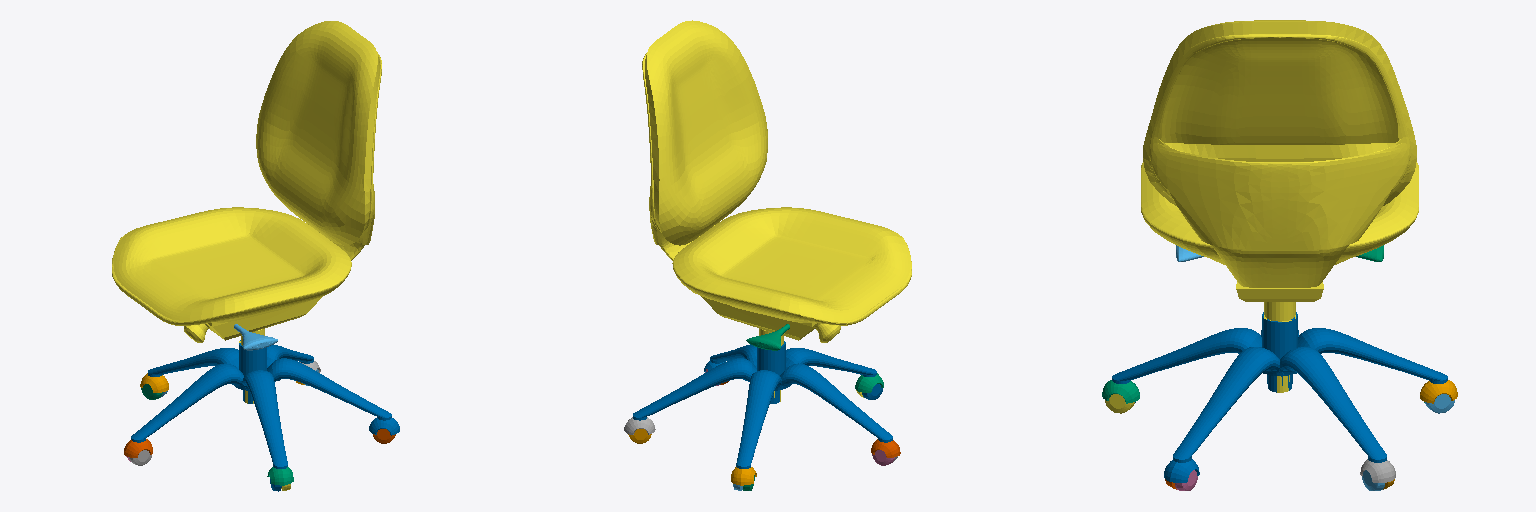
robot.urdf — partnet_2892ab19f2d3a88a3ee8e30b29f70dfc:
<?xml version="1.0" ?>
<robot name="partnet_2892ab19f2d3a88a3ee8e30b29f70dfc">
	<link name="base"/>
	<link name="link_0">
		<visual name="lever-39">
			<origin xyz="-0.07916357502341272 0.20326172582160199 0"/>
			<geometry>
				<mesh filename="textured_objs/original-5.obj"/>
			</geometry>
		</visual>
		<collision>
			<origin xyz="-0.07916357502341272 0.20326172582160199 0"/>
			<geometry>
				<mesh filename="textured_objs/original-5.obj"/>
			</geometry>
		</collision>
	</link>
	<joint name="joint_0" type="revolute">
		<origin xyz="0.07341374629820337 -0.20257652560710704 -0.08817274967418126"/>
		<axis xyz="0 0 -1"/>
		<child link="link_0"/>
		<parent link="link_18"/>
		<limit lower="-0.0" upper="0.3078760800518005"/>
	</joint>
	<link name="link_1">
		<visual name="lever-40">
			<origin xyz="0.11535036701709028 0.19381843846510613 0"/>
			<geometry>
				<mesh filename="textured_objs/original-6.obj"/>
			</geometry>
		</visual>
		<collision>
			<origin xyz="0.11535036701709028 0.19381843846510613 0"/>
			<geometry>
				<mesh filename="textured_objs/original-6.obj"/>
			</geometry>
		</collision>
	</link>
	<joint name="joint_1" type="revolute">
		<origin xyz="-0.12110019574229963 -0.19313323825061118 -0.08817274967418126"/>
		<axis xyz="0 0 1"/>
		<child link="link_1"/>
		<parent link="link_18"/>
		<limit lower="0.0" upper="0.2827433388230814"/>
	</joint>
	<link name="link_2">
		<visual name="knob-41">
			<origin xyz="-0.005731568221707381 -0.03796797448955746 -0.033429205645593825"/>
			<geometry>
				<mesh filename="textured_objs/original-10.obj"/>
			</geometry>
		</visual>
		<collision>
			<origin xyz="-0.005731568221707381 -0.03796797448955746 -0.033429205645593825"/>
			<geometry>
				<mesh filename="textured_objs/original-10.obj"/>
			</geometry>
		</collision>
	</link>
	<joint name="joint_2" type="continuous">
		<origin xyz="-1.826050350197273e-05 0.038653174704052405 -0.054743544028587436"/>
		<axis xyz="2.6856023375786897e-05 0.6608193028271071 -0.7505450341517491"/>
		<child link="link_2"/>
		<parent link="link_18"/>
	</joint>
	<link name="link_3">
		<visual name="caster_yoke-34">
			<origin xyz="-0.32316849999999997 0 0.35236199999999995"/>
			<geometry>
				<mesh filename="textured_objs/original-20.obj"/>
			</geometry>
		</visual>
		<collision>
			<origin xyz="-0.32316849999999997 0 0.35236199999999995"/>
			<geometry>
				<mesh filename="textured_objs/original-20.obj"/>
			</geometry>
		</collision>
	</link>
	<joint name="joint_3" type="continuous">
		<origin xyz="0.32316849999999997 0 -0.35236199999999995"/>
		<axis xyz="0 1 0"/>
		<child link="link_3"/>
		<parent link="link_19"/>
	</joint>
	<link name="link_4">
		<visual name="wheel-35">
			<origin xyz="-0.2792009643352871 0.7267385113570614 0.3843046284238706"/>
			<geometry>
				<mesh filename="textured_objs/new-8.obj"/>
			</geometry>
		</visual>
		<collision>
			<origin xyz="-0.2792009643352871 0.7267385113570614 0.3843046284238706"/>
			<geometry>
				<mesh filename="textured_objs/new-8.obj"/>
			</geometry>
		</collision>
	</link>
	<joint name="joint_4" type="continuous">
		<origin xyz="-0.04396753566471284 -0.7267385113570614 -0.031942628423870634"/>
		<axis xyz="-0.809029713042876 0 -0.5877677461495839"/>
		<child link="link_4"/>
		<parent link="link_3"/>
	</joint>
	<link name="link_5">
		<visual name="wheel-36">
			<origin xyz="-0.2792009643352871 0.7267385113570614 0.3843046284238706"/>
			<geometry>
				<mesh filename="textured_objs/new-9.obj"/>
			</geometry>
		</visual>
		<collision>
			<origin xyz="-0.2792009643352871 0.7267385113570614 0.3843046284238706"/>
			<geometry>
				<mesh filename="textured_objs/new-9.obj"/>
			</geometry>
		</collision>
	</link>
	<joint name="joint_5" type="continuous">
		<origin xyz="-0.04396753566471284 -0.7267385113570614 -0.031942628423870634"/>
		<axis xyz="-0.809029713042876 0 -0.5877677461495839"/>
		<child link="link_5"/>
		<parent link="link_3"/>
	</joint>
	<link name="link_6">
		<visual name="caster_yoke-31">
			<origin xyz="0.31172500000000003 0 0.35236199999999995"/>
			<geometry>
				<mesh filename="textured_objs/original-24.obj"/>
			</geometry>
		</visual>
		<collision>
			<origin xyz="0.31172500000000003 0 0.35236199999999995"/>
			<geometry>
				<mesh filename="textured_objs/original-24.obj"/>
			</geometry>
		</collision>
	</link>
	<joint name="joint_6" type="continuous">
		<origin xyz="-0.31172500000000003 0 -0.35236199999999995"/>
		<axis xyz="0 1 0"/>
		<child link="link_6"/>
		<parent link="link_19"/>
	</joint>
	<link name="link_7">
		<visual name="wheel-32">
			<origin xyz="0.27520330017027106 0.7267385 0.3788908595745242"/>
			<geometry>
				<mesh filename="textured_objs/new-4.obj"/>
			</geometry>
		</visual>
		<collision>
			<origin xyz="0.27520330017027106 0.7267385 0.3788908595745242"/>
			<geometry>
				<mesh filename="textured_objs/new-4.obj"/>
			</geometry>
		</collision>
	</link>
	<joint name="joint_7" type="continuous">
		<origin xyz="0.03652169982972897 -0.7267385 -0.02652885957452422"/>
		<axis xyz="-0.8090951842041659 0 0.5876776181697132"/>
		<child link="link_7"/>
		<parent link="link_6"/>
	</joint>
	<link name="link_8">
		<visual name="wheel-33">
			<origin xyz="0.27520330017027106 0.7267385 0.3788908595745242"/>
			<geometry>
				<mesh filename="textured_objs/new-5.obj"/>
			</geometry>
		</visual>
		<collision>
			<origin xyz="0.27520330017027106 0.7267385 0.3788908595745242"/>
			<geometry>
				<mesh filename="textured_objs/new-5.obj"/>
			</geometry>
		</collision>
	</link>
	<joint name="joint_8" type="continuous">
		<origin xyz="0.03652169982972897 -0.7267385 -0.02652885957452422"/>
		<axis xyz="-0.8090951842041659 0 0.5876776181697132"/>
		<child link="link_8"/>
		<parent link="link_6"/>
	</joint>
	<link name="link_9">
		<visual name="caster_yoke-28">
			<origin xyz="-0.5193615 0 -0.251457"/>
			<geometry>
				<mesh filename="textured_objs/original-38.obj"/>
			</geometry>
		</visual>
		<collision>
			<origin xyz="-0.5193615 0 -0.251457"/>
			<geometry>
				<mesh filename="textured_objs/original-38.obj"/>
			</geometry>
		</collision>
	</link>
	<joint name="joint_9" type="continuous">
		<origin xyz="0.5193615 0 0.251457"/>
		<axis xyz="0 1 0"/>
		<child link="link_9"/>
		<parent link="link_19"/>
	</joint>
	<link name="link_10">
		<visual name="wheel-29">
			<origin xyz="-0.543674627303899 0.7267385 -0.17661444238210938"/>
			<geometry>
				<mesh filename="textured_objs/new-6.obj"/>
			</geometry>
		</visual>
		<collision>
			<origin xyz="-0.543674627303899 0.7267385 -0.17661444238210938"/>
			<geometry>
				<mesh filename="textured_objs/new-6.obj"/>
			</geometry>
		</collision>
	</link>
	<joint name="joint_10" type="continuous">
		<origin xyz="0.024313127303899007 -0.7267385 -0.0748425576178906"/>
		<axis xyz="-0.3089598149815872 0 0.9510750931059774"/>
		<child link="link_10"/>
		<parent link="link_9"/>
	</joint>
	<link name="link_11">
		<visual name="wheel-30">
			<origin xyz="-0.543674627303899 0.7267385 -0.17661444238210938"/>
			<geometry>
				<mesh filename="textured_objs/new-7.obj"/>
			</geometry>
		</visual>
		<collision>
			<origin xyz="-0.543674627303899 0.7267385 -0.17661444238210938"/>
			<geometry>
				<mesh filename="textured_objs/new-7.obj"/>
			</geometry>
		</collision>
	</link>
	<joint name="joint_11" type="continuous">
		<origin xyz="0.024313127303899007 -0.7267385 -0.0748425576178906"/>
		<axis xyz="-0.3089598149815872 0 0.9510750931059774"/>
		<child link="link_11"/>
		<parent link="link_9"/>
	</joint>
	<link name="link_12">
		<visual name="caster_yoke-25">
			<origin xyz="-0.005722 0 -0.624187"/>
			<geometry>
				<mesh filename="textured_objs/original-32.obj"/>
			</geometry>
		</visual>
		<collision>
			<origin xyz="-0.005722 0 -0.624187"/>
			<geometry>
				<mesh filename="textured_objs/original-32.obj"/>
			</geometry>
		</collision>
	</link>
	<joint name="joint_12" type="continuous">
		<origin xyz="0.005722 0 0.624187"/>
		<axis xyz="0 1 0"/>
		<child link="link_12"/>
		<parent link="link_19"/>
	</joint>
	<link name="link_13">
		<visual name="wheel-26">
			<origin xyz="0 0.7267385000000001 -0.6241872567938512"/>
			<geometry>
				<mesh filename="textured_objs/new-3.obj"/>
			</geometry>
		</visual>
		<collision>
			<origin xyz="0 0.7267385000000001 -0.6241872567938512"/>
			<geometry>
				<mesh filename="textured_objs/new-3.obj"/>
			</geometry>
		</collision>
	</link>
	<joint name="joint_13" type="continuous">
		<origin xyz="-0.005722 -0.7267385000000001 2.567938511832679e-07"/>
		<axis xyz="-1 0 0"/>
		<child link="link_13"/>
		<parent link="link_12"/>
	</joint>
	<link name="link_14">
		<visual name="wheel-27">
			<origin xyz="0 0.7267385000000001 -0.6241872567938512"/>
			<geometry>
				<mesh filename="textured_objs/new-2.obj"/>
			</geometry>
		</visual>
		<collision>
			<origin xyz="0 0.7267385000000001 -0.6241872567938512"/>
			<geometry>
				<mesh filename="textured_objs/new-2.obj"/>
			</geometry>
		</collision>
	</link>
	<joint name="joint_14" type="continuous">
		<origin xyz="-0.005722 -0.7267385000000001 2.567938511832679e-07"/>
		<axis xyz="-1 0 0"/>
		<child link="link_14"/>
		<parent link="link_12"/>
	</joint>
	<link name="link_15">
		<visual name="caster_yoke-22">
			<origin xyz="0.5079175 0 -0.251457"/>
			<geometry>
				<mesh filename="textured_objs/original-28.obj"/>
			</geometry>
		</visual>
		<collision>
			<origin xyz="0.5079175 0 -0.251457"/>
			<geometry>
				<mesh filename="textured_objs/original-28.obj"/>
			</geometry>
		</collision>
	</link>
	<joint name="joint_15" type="continuous">
		<origin xyz="-0.5079175 0 0.251457"/>
		<axis xyz="0 1 0"/>
		<child link="link_15"/>
		<parent link="link_19"/>
	</joint>
	<link name="link_16">
		<visual name="wheel-23">
			<origin xyz="0.5333175144620299 0.7267385000000001 -0.17328261434167494"/>
			<geometry>
				<mesh filename="textured_objs/new-0.obj"/>
			</geometry>
		</visual>
		<collision>
			<origin xyz="0.5333175144620299 0.7267385000000001 -0.17328261434167494"/>
			<geometry>
				<mesh filename="textured_objs/new-0.obj"/>
			</geometry>
		</collision>
	</link>
	<joint name="joint_16" type="continuous">
		<origin xyz="-0.025400014462029885 -0.7267385000000001 -0.07817438565832505"/>
		<axis xyz="0.30901256406002664 0 0.9510579557803237"/>
		<child link="link_16"/>
		<parent link="link_15"/>
	</joint>
	<link name="link_17">
		<visual name="wheel-24">
			<origin xyz="0.5333175144620299 0.7267385000000001 -0.17328261434167494"/>
			<geometry>
				<mesh filename="textured_objs/new-1.obj"/>
			</geometry>
		</visual>
		<collision>
			<origin xyz="0.5333175144620299 0.7267385000000001 -0.17328261434167494"/>
			<geometry>
				<mesh filename="textured_objs/new-1.obj"/>
			</geometry>
		</collision>
	</link>
	<joint name="joint_17" type="continuous">
		<origin xyz="-0.025400014462029885 -0.7267385000000001 -0.07817438565832505"/>
		<axis xyz="0.30901256406002664 0 0.9510579557803237"/>
		<child link="link_17"/>
		<parent link="link_15"/>
	</joint>
	<link name="link_18">
		<visual name="back_soft_surface-49">
			<origin xyz="-0.005749828725209354 0.0006852002144949483 -0.08817274967418126"/>
			<geometry>
				<mesh filename="textured_objs/original-4.obj"/>
			</geometry>
		</visual>
		<visual name="back_soft_surface-49">
			<origin xyz="-0.005749828725209354 0.0006852002144949483 -0.08817274967418126"/>
			<geometry>
				<mesh filename="textured_objs/original-14.obj"/>
			</geometry>
		</visual>
		<visual name="back_soft_surface-49">
			<origin xyz="-0.005749828725209354 0.0006852002144949483 -0.08817274967418126"/>
			<geometry>
				<mesh filename="textured_objs/original-3.obj"/>
			</geometry>
		</visual>
		<visual name="back_support-47">
			<origin xyz="-0.005749828725209354 0.0006852002144949483 -0.08817274967418126"/>
			<geometry>
				<mesh filename="textured_objs/original-12.obj"/>
			</geometry>
		</visual>
		<visual name="back_connector-48">
			<origin xyz="-0.005749828725209354 0.0006852002144949483 -0.08817274967418126"/>
			<geometry>
				<mesh filename="textured_objs/original-13.obj"/>
			</geometry>
		</visual>
		<visual name="seat_soft_surface-44">
			<origin xyz="-0.005749828725209354 0.0006852002144949483 -0.08817274967418126"/>
			<geometry>
				<mesh filename="textured_objs/original-1.obj"/>
			</geometry>
		</visual>
		<visual name="seat_support-45">
			<origin xyz="-0.005749828725209354 0.0006852002144949483 -0.08817274967418126"/>
			<geometry>
				<mesh filename="textured_objs/original-15.obj"/>
			</geometry>
		</visual>
		<visual name="central_support-37">
			<origin xyz="-0.005749828725209354 0.0006852002144949483 -0.08817274967418126"/>
			<geometry>
				<mesh filename="textured_objs/new-10.obj"/>
			</geometry>
		</visual>
		<visual name="mounting_plate-42">
			<origin xyz="-0.005749828725209354 0.0006852002144949483 -0.08817274967418126"/>
			<geometry>
				<mesh filename="textured_objs/original-9.obj"/>
			</geometry>
		</visual>
		<collision>
			<origin xyz="-0.005749828725209354 0.0006852002144949483 -0.08817274967418126"/>
			<geometry>
				<mesh filename="textured_objs/original-4.obj"/>
			</geometry>
		</collision>
		<collision>
			<origin xyz="-0.005749828725209354 0.0006852002144949483 -0.08817274967418126"/>
			<geometry>
				<mesh filename="textured_objs/original-14.obj"/>
			</geometry>
		</collision>
		<collision>
			<origin xyz="-0.005749828725209354 0.0006852002144949483 -0.08817274967418126"/>
			<geometry>
				<mesh filename="textured_objs/original-3.obj"/>
			</geometry>
		</collision>
		<collision>
			<origin xyz="-0.005749828725209354 0.0006852002144949483 -0.08817274967418126"/>
			<geometry>
				<mesh filename="textured_objs/original-12.obj"/>
			</geometry>
		</collision>
		<collision>
			<origin xyz="-0.005749828725209354 0.0006852002144949483 -0.08817274967418126"/>
			<geometry>
				<mesh filename="textured_objs/original-13.obj"/>
			</geometry>
		</collision>
		<collision>
			<origin xyz="-0.005749828725209354 0.0006852002144949483 -0.08817274967418126"/>
			<geometry>
				<mesh filename="textured_objs/original-1.obj"/>
			</geometry>
		</collision>
		<collision>
			<origin xyz="-0.005749828725209354 0.0006852002144949483 -0.08817274967418126"/>
			<geometry>
				<mesh filename="textured_objs/original-15.obj"/>
			</geometry>
		</collision>
		<collision>
			<origin xyz="-0.005749828725209354 0.0006852002144949483 -0.08817274967418126"/>
			<geometry>
				<mesh filename="textured_objs/new-10.obj"/>
			</geometry>
		</collision>
		<collision>
			<origin xyz="-0.005749828725209354 0.0006852002144949483 -0.08817274967418126"/>
			<geometry>
				<mesh filename="textured_objs/original-9.obj"/>
			</geometry>
		</collision>
	</link>
	<joint name="joint_18" type="continuous">
		<origin xyz="0.0 0.0 0.0"/>
		<axis xyz="-6.4304437689899e-05 -0.9999698367946848 -0.0077666830597677835"/>
		<child link="link_18"/>
		<parent link="link_18_helper"/>
	</joint>
	<link name="link_19">
		<visual name="central_support-10">
			<origin xyz="0 0 0"/>
			<geometry>
				<mesh filename="textured_objs/new-11.obj"/>
			</geometry>
		</visual>
		<visual name="leg-12">
			<origin xyz="0 0 0"/>
			<geometry>
				<mesh filename="textured_objs/original-35.obj"/>
			</geometry>
		</visual>
		<visual name="leg-13">
			<origin xyz="0 0 0"/>
			<geometry>
				<mesh filename="textured_objs/original-18.obj"/>
			</geometry>
		</visual>
		<visual name="leg-14">
			<origin xyz="0 0 0"/>
			<geometry>
				<mesh filename="textured_objs/original-17.obj"/>
			</geometry>
		</visual>
		<visual name="leg-15">
			<origin xyz="0 0 0"/>
			<geometry>
				<mesh filename="textured_objs/original-16.obj"/>
			</geometry>
		</visual>
		<visual name="leg-16">
			<origin xyz="0 0 0"/>
			<geometry>
				<mesh filename="textured_objs/original-36.obj"/>
			</geometry>
		</visual>
		<collision>
			<origin xyz="0 0 0"/>
			<geometry>
				<mesh filename="textured_objs/new-11.obj"/>
			</geometry>
		</collision>
		<collision>
			<origin xyz="0 0 0"/>
			<geometry>
				<mesh filename="textured_objs/original-35.obj"/>
			</geometry>
		</collision>
		<collision>
			<origin xyz="0 0 0"/>
			<geometry>
				<mesh filename="textured_objs/original-18.obj"/>
			</geometry>
		</collision>
		<collision>
			<origin xyz="0 0 0"/>
			<geometry>
				<mesh filename="textured_objs/original-17.obj"/>
			</geometry>
		</collision>
		<collision>
			<origin xyz="0 0 0"/>
			<geometry>
				<mesh filename="textured_objs/original-16.obj"/>
			</geometry>
		</collision>
		<collision>
			<origin xyz="0 0 0"/>
			<geometry>
				<mesh filename="textured_objs/original-36.obj"/>
			</geometry>
		</collision>
	</link>
	<joint name="joint_19" type="fixed">
		<origin rpy="1.570796326794897 0 -1.570796326794897" xyz="0 0 0"/>
		<child link="link_19"/>
		<parent link="base"/>
	</joint>
	<link name="link_18_helper"/>
	<joint name="joint_20" type="prismatic">
		<origin xyz="0.005749828725209354 -0.0006852002144949483 0.08817274967418126"/>
		<axis xyz="-6.4304437689899e-05 -0.9999698367946848 -0.0077666830597677835"/>
		<child link="link_18_helper"/>
		<parent link="link_19"/>
		<limit lower="0" upper="0.052000000000000046"/>
	</joint>
</robot>

--- Facts derived from the render (not from the file) ---
Views: 3 orthographic renders of the robot side by side, from view 1: azimuth 30°, elevation 25°; view 2: azimuth 150°, elevation 25°; view 3: azimuth 270°, elevation 25°.
Model partnet_2892ab19f2d3a88a3ee8e30b29f70dfc with 22 links and 21 joints (2 revolute, 17 continuous, 1 prismatic, 1 fixed), rooted at base, posed every joint at zero.
Visible links, largest first — view 1: link_18, link_19, link_0; view 2: link_18, link_19, link_1; view 3: link_18, link_19, link_3, link_6, link_9, link_15.
Boxes of the visible links, left/top/right/bottom form: link_18: left=112, top=21, right=381, bottom=403; link_19: left=131, top=340, right=391, bottom=468; link_0: left=234, top=324, right=277, bottom=350; link_18: left=642, top=20, right=911, bottom=401; link_19: left=633, top=341, right=892, bottom=468; link_1: left=746, top=324, right=789, bottom=350; link_18: left=1141, top=20, right=1418, bottom=392; link_19: left=1112, top=312, right=1447, bottom=462; link_3: left=1164, top=459, right=1199, bottom=482; link_6: left=1360, top=459, right=1395, bottom=482; link_9: left=1102, top=380, right=1139, bottom=403; link_15: left=1420, top=380, right=1457, bottom=403.
Bounding box of the posed robot: 1.13 × 1.15 × 1.7 m (x, y, z).
Meshes: 33 distinct files referenced, 33 mesh visuals loaded (33 OBJ).
